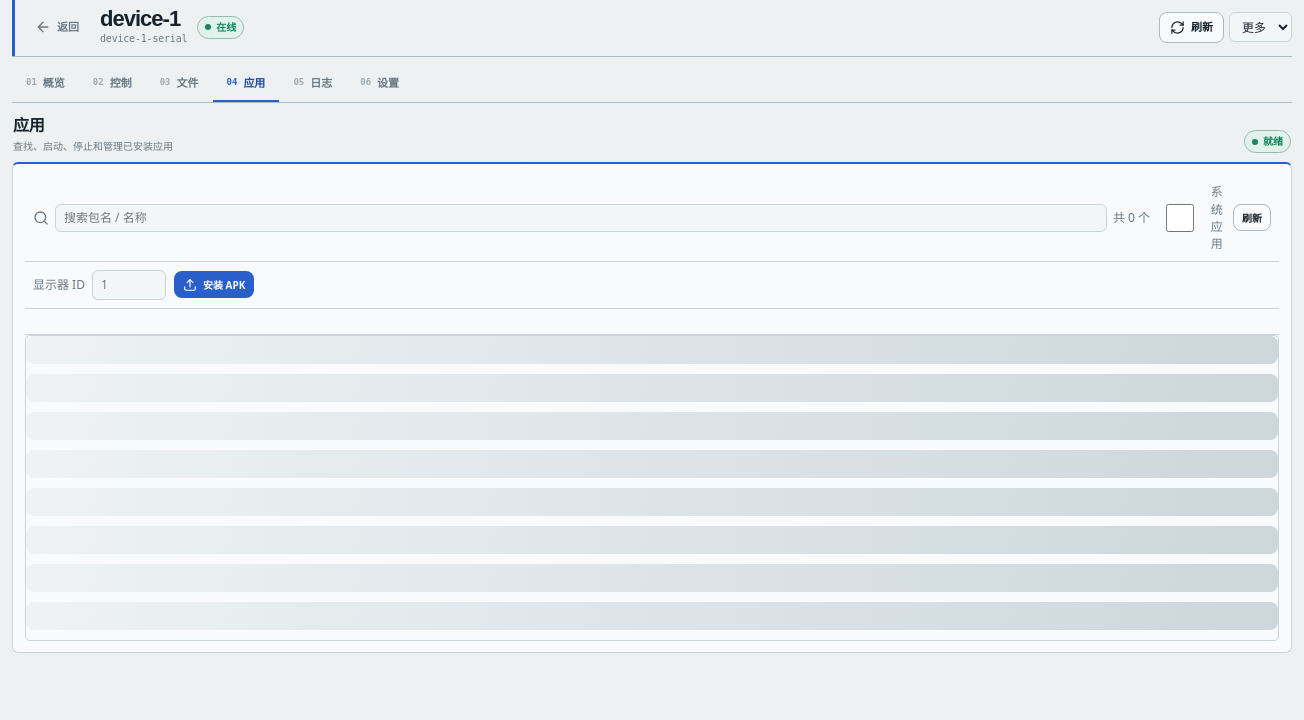
Scenario: DeviceDetail refresh ordering › keeps the newest app filter result when the previous listing resolves later
Click the checkbox: (1180, 218) [1156,204,1204,232]
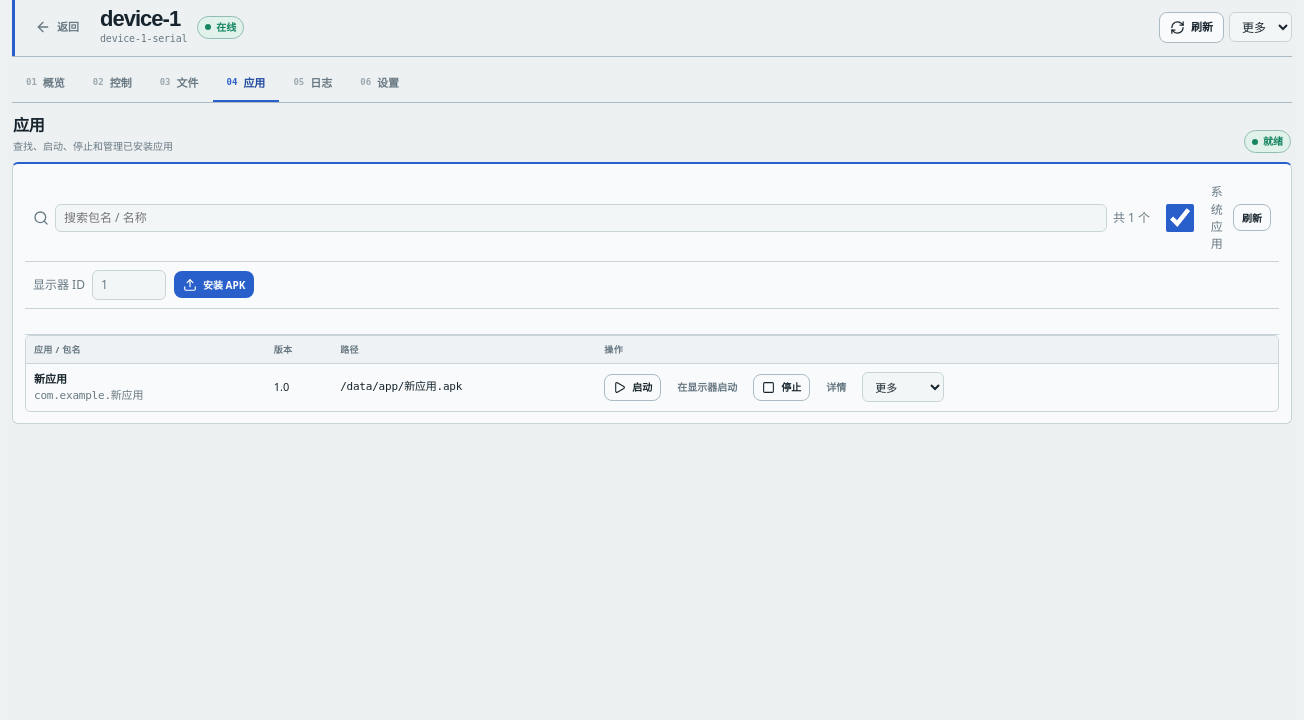
Check: the text "新应用" is shown, box [34,371,67,386]
